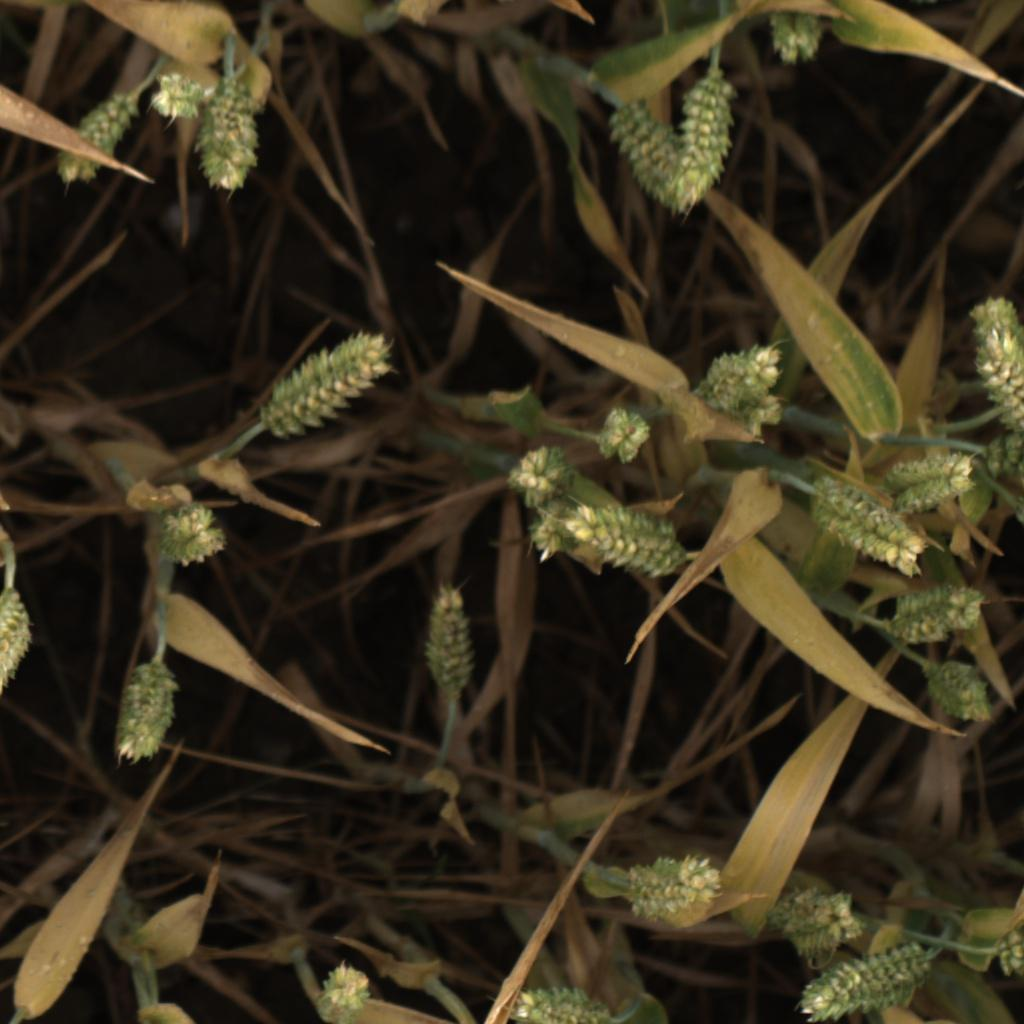0-0: (256, 329, 387, 441), (805, 468, 924, 582), (793, 938, 936, 1024), (669, 63, 744, 216), (560, 495, 692, 579), (413, 581, 492, 698), (625, 847, 732, 927), (107, 663, 184, 773), (191, 80, 262, 196), (762, 879, 869, 955), (686, 340, 786, 419), (52, 93, 132, 189), (609, 93, 670, 202), (888, 580, 988, 644), (884, 449, 980, 514), (503, 435, 580, 509), (970, 329, 1024, 431), (155, 502, 230, 575), (921, 661, 1000, 729), (307, 956, 379, 1024), (507, 978, 611, 1024), (586, 403, 656, 468), (0, 591, 38, 710), (531, 501, 594, 571), (763, 6, 829, 72), (718, 390, 787, 442), (145, 70, 205, 123), (980, 423, 1024, 482), (968, 293, 1024, 338), (990, 915, 1024, 988), (1010, 781, 1024, 863), (1010, 494, 1024, 530)
